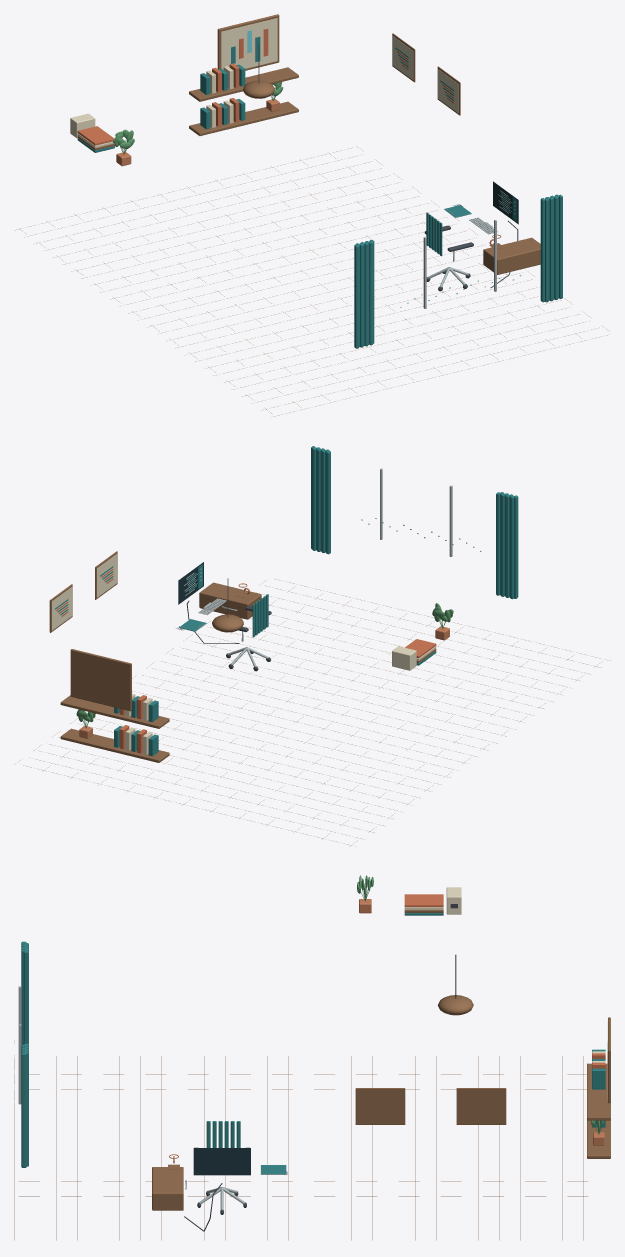
Rendered from office-ultra.glb.
3 renders of one model, top to bottom at view 1: azimuth 30°, elevation 25°; view 2: azimuth 150°, elevation 25°; view 3: azimuth 270°, elevation 25°, orthographic. The views are drawn at different scales.
Visible parts, largest first — view 1: office Walnut, office Petrol teal, office Ivory, office Burnt orange, office Satin metal, office Editor ink; view 2: office Walnut, office Petrol teal, office Ivory, office Satin metal, office Burnt orange, office Editor ink; view 3: office Walnut, office Petrol teal, office Editor ink, office Satin metal, office Burnt orange, office Ivory.
Boxes of the visible parts, x1,y1,x2,y2 form: office Walnut: [15, 14, 608, 416]; office Petrol teal: [77, 36, 562, 348]; office Ivory: [70, 18, 510, 307]; office Burnt orange: [77, 28, 454, 145]; office Satin metal: [423, 209, 497, 308]; office Editor ink: [493, 181, 518, 224]; office Walnut: [14, 551, 610, 846]; office Petrol teal: [55, 446, 518, 756]; office Ivory: [52, 518, 481, 754]; office Satin metal: [195, 468, 452, 666]; office Burnt orange: [56, 568, 436, 753]; office Editor ink: [178, 562, 203, 604]; office Walnut: [14, 910, 610, 1240]; office Petrol teal: [21, 913, 605, 1174]; office Editor ink: [193, 1148, 250, 1175]; office Satin metal: [18, 986, 282, 1209]; office Burnt orange: [404, 894, 607, 1084]; office Ivory: [14, 887, 607, 1173].
Size of the model in its own units: 294 by 149 by 396.
